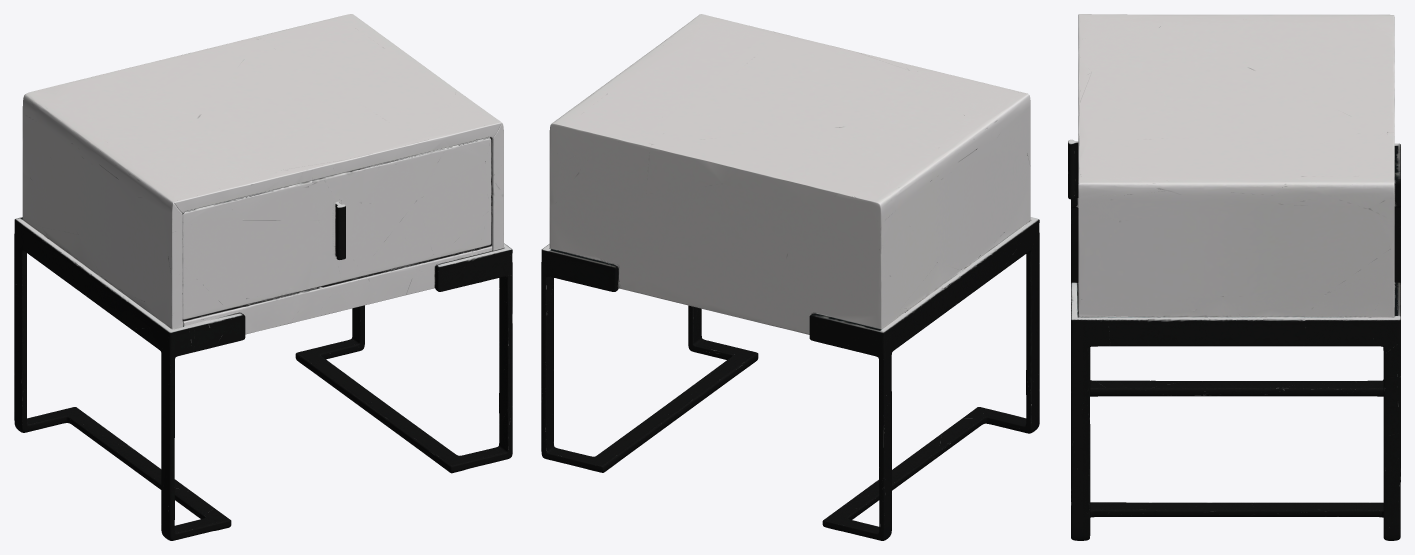
File: meshy-10.glb
The picture shows the model from 3 angles, left to right: view 1: azimuth 30°, elevation 25°; view 2: azimuth 150°, elevation 25°; view 3: azimuth 270°, elevation 25°; orthographic projection. The views are drawn at different scales.
Parts seen in each view (by area): view 1: RealScale; view 2: RealScale; view 3: RealScale.
Part boxes in pixels (x1,y1,x2,y2): RealScale: (14,14,512,540); RealScale: (541,14,1039,540); RealScale: (1068,14,1400,540).
Size of the model in its own units: 0.5864 by 0.55 by 0.4657.
Materials: 1 (1 with a texture image).
